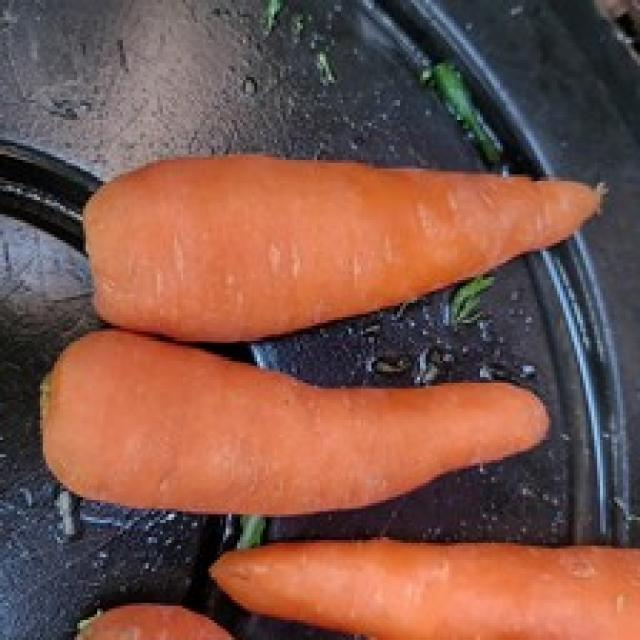carrot: (87, 153, 617, 334), (32, 331, 556, 514), (201, 536, 640, 640)
